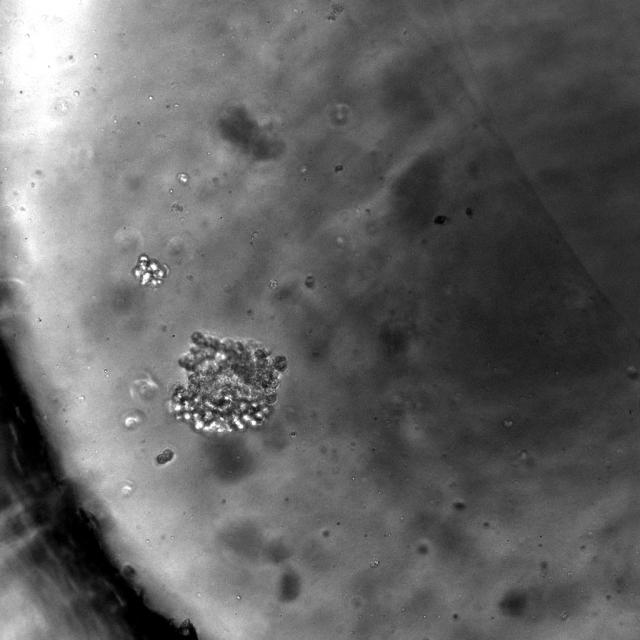organoid: (168, 331, 288, 434), (132, 254, 168, 287), (156, 448, 174, 464)
